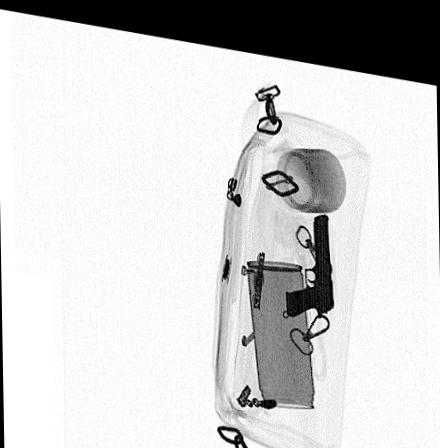Gun: (284, 200, 334, 305)
